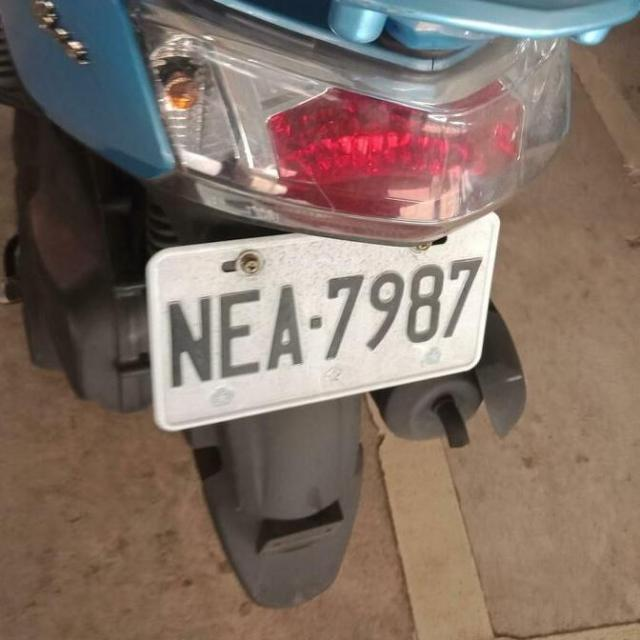W: (134, 204, 514, 437)
